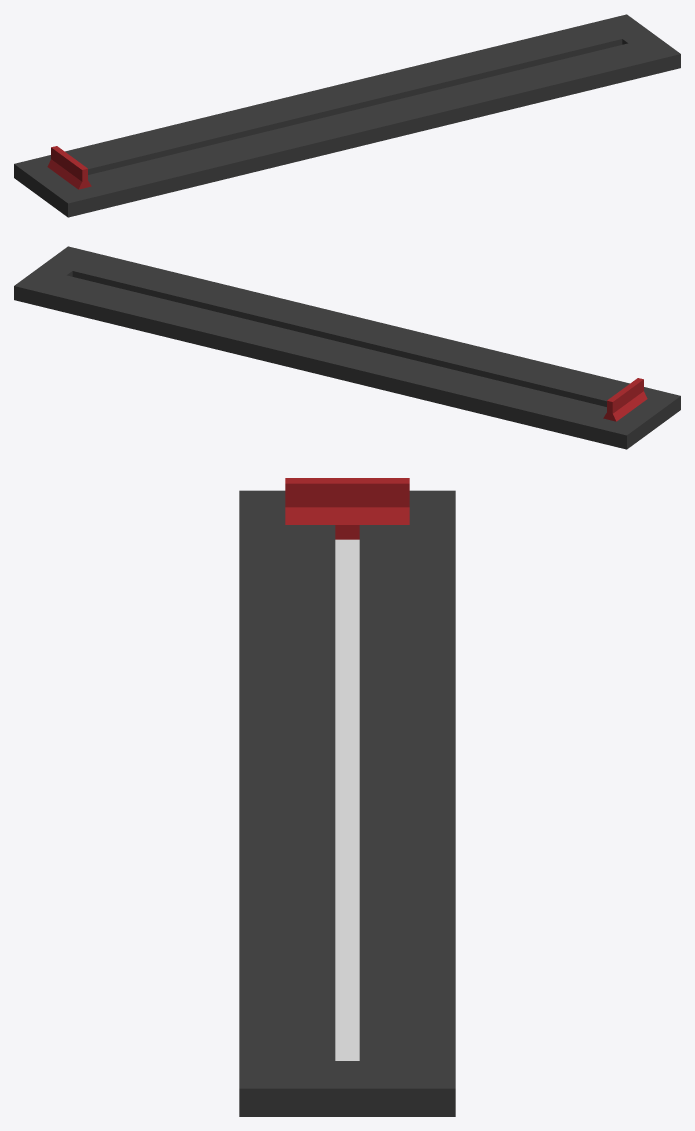
Rendered from slider.fbx.
3 views of the same model, one above another, from view 1: azimuth 30°, elevation 25°; view 2: azimuth 150°, elevation 25°; view 3: azimuth 270°, elevation 25° (orthographic). The views are drawn at different scales.
Visible parts, largest first — view 1: Slider_Base, Knob; view 2: Slider_Base, Knob; view 3: Slider_Base, Fill, Knob.
Boxes of the visible parts, box(x1,y1,x2,y2) form: Slider_Base: box(14, 14, 680, 217); Knob: box(47, 146, 91, 189); Slider_Base: box(14, 246, 680, 449); Knob: box(603, 378, 647, 421); Slider_Base: box(239, 490, 455, 1116); Fill: box(335, 539, 359, 1060); Knob: box(285, 478, 409, 539).
Size of the model in its own units: 76.47 by 3.92 by 11.69.
